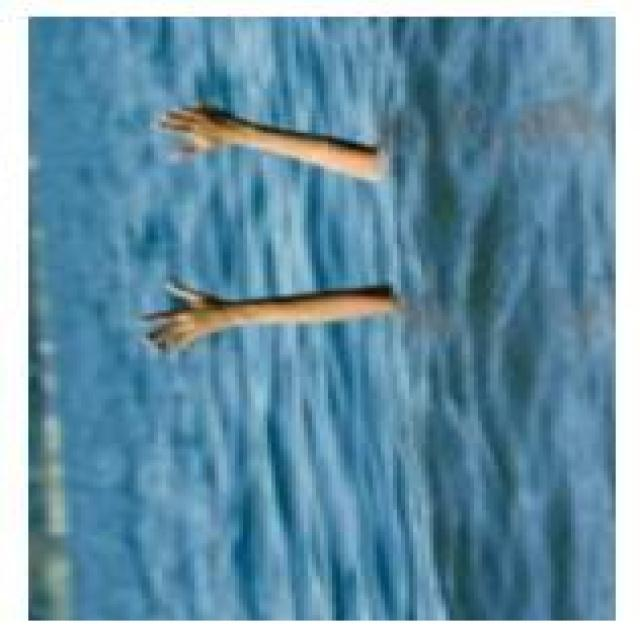Out of Water: (132, 97, 427, 357)
